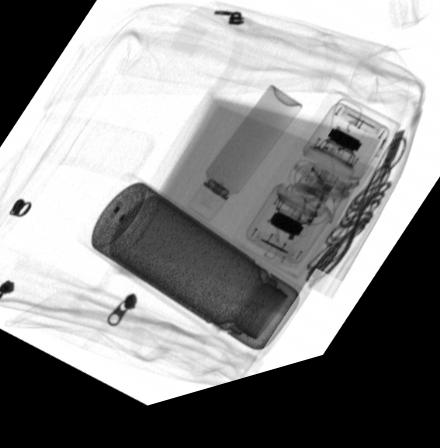Lighter: (297, 198, 335, 247)
Sprayer: (187, 99, 303, 233)
